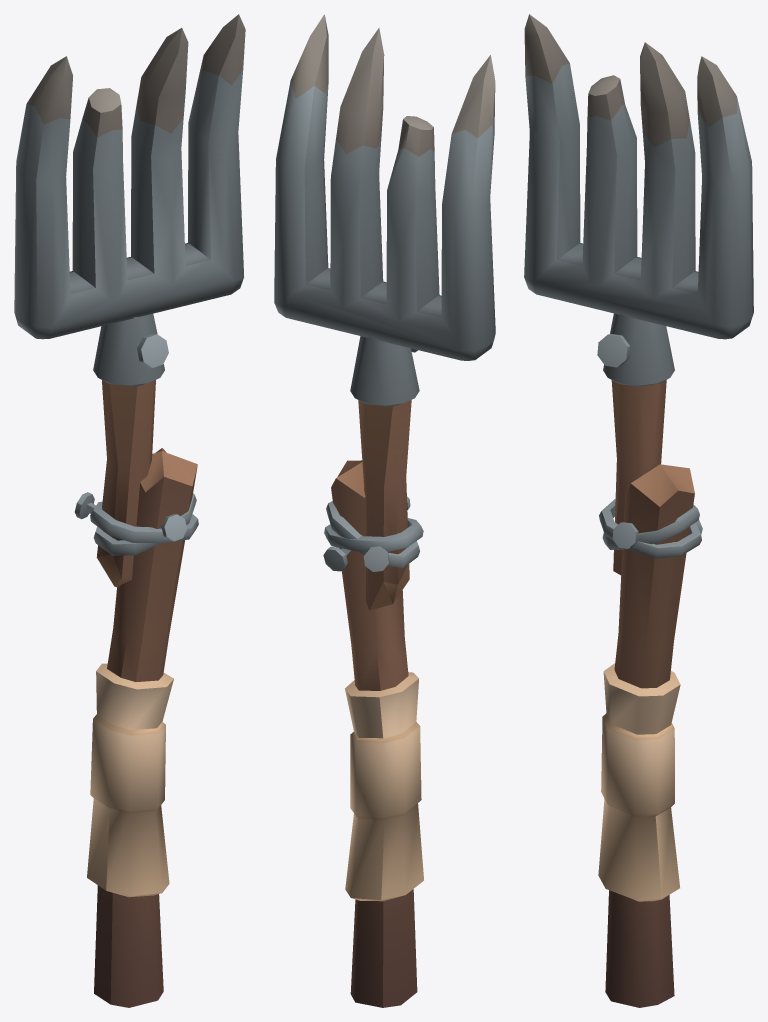
The model's file is Monstrosity_Pitchfork_Large.obj.
3 views of the same model, side by side, from view 1: azimuth 30°, elevation 25°; view 2: azimuth 150°, elevation 25°; view 3: azimuth 330°, elevation 25° (orthographic). The views are drawn at different scales.
Visible parts, largest first — view 1: Monstrosity_Pitchfork_Large; view 2: Monstrosity_Pitchfork_Large; view 3: Monstrosity_Pitchfork_Large.
Part boxes in pixels (x1=…): Monstrosity_Pitchfork_Large: x1=14, y1=14, x2=245, y2=1007; Monstrosity_Pitchfork_Large: x1=274, y1=14, x2=495, y2=1007; Monstrosity_Pitchfork_Large: x1=524, y1=14, x2=753, y2=1007.
Bounding box in the file's own units: 0.7599 × 3.29 × 0.3849.
1 material, 1 textured.
